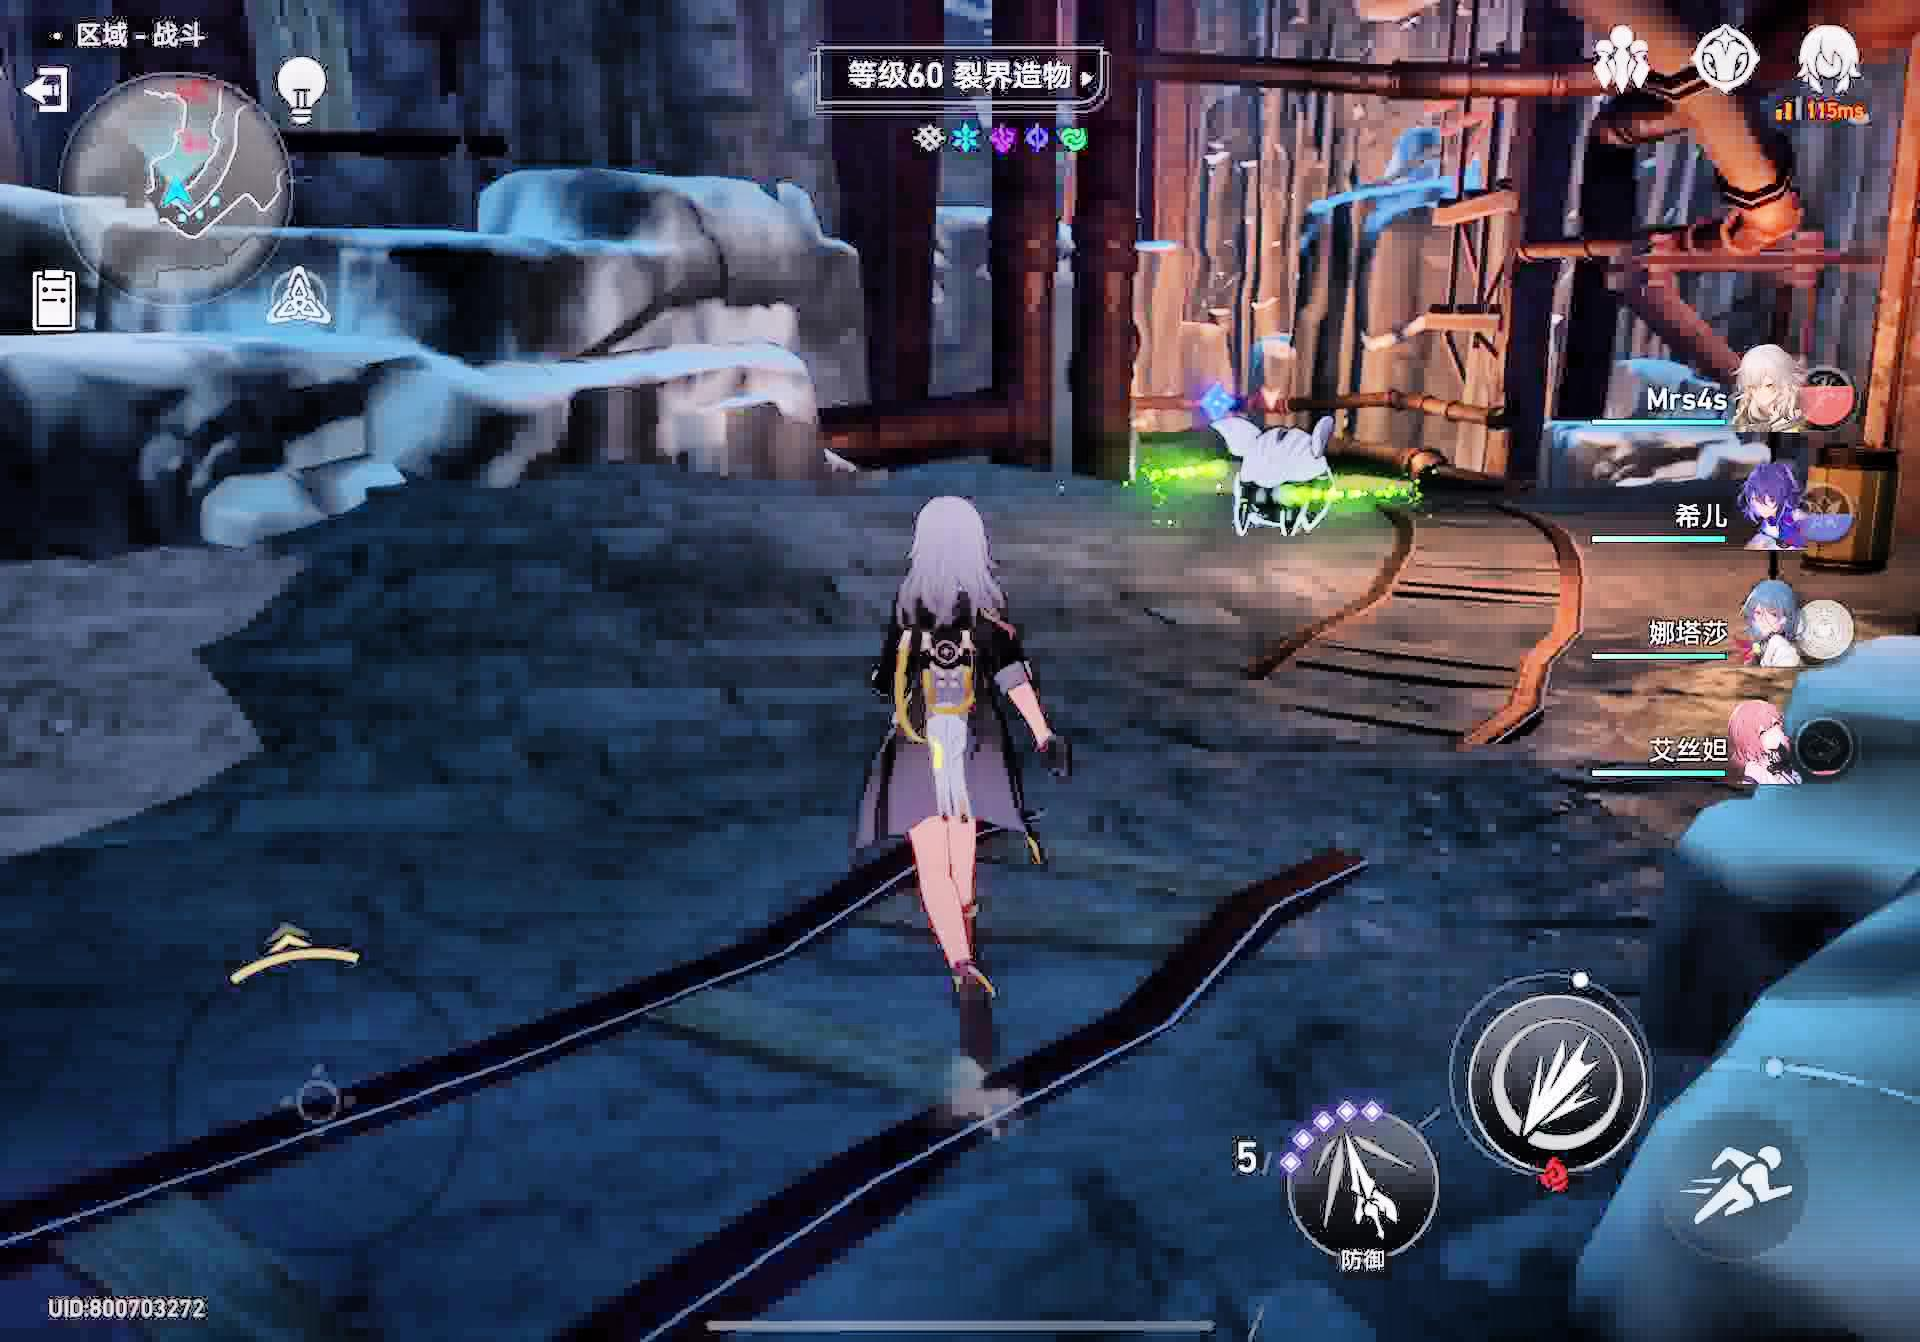Box: (1802, 442, 1892, 578)
Enemy: (1214, 410, 1344, 546)
EventDoor: (1192, 384, 1236, 420)
Self: (872, 490, 1061, 1058)
